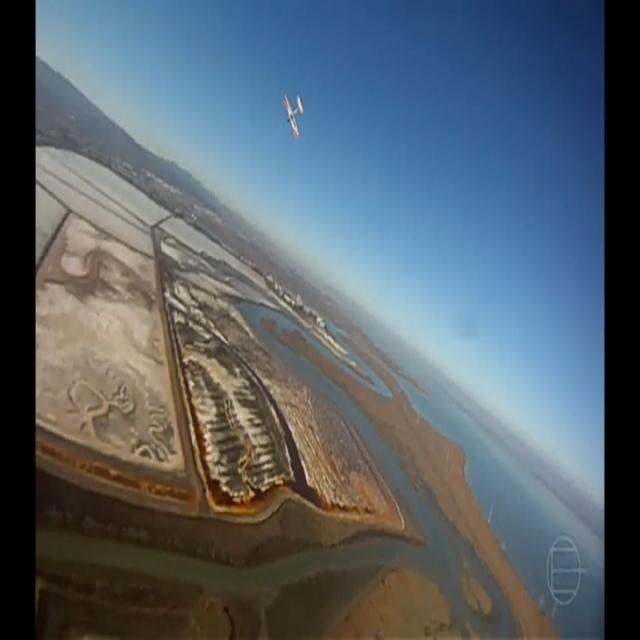iha: (284, 27, 304, 76)
